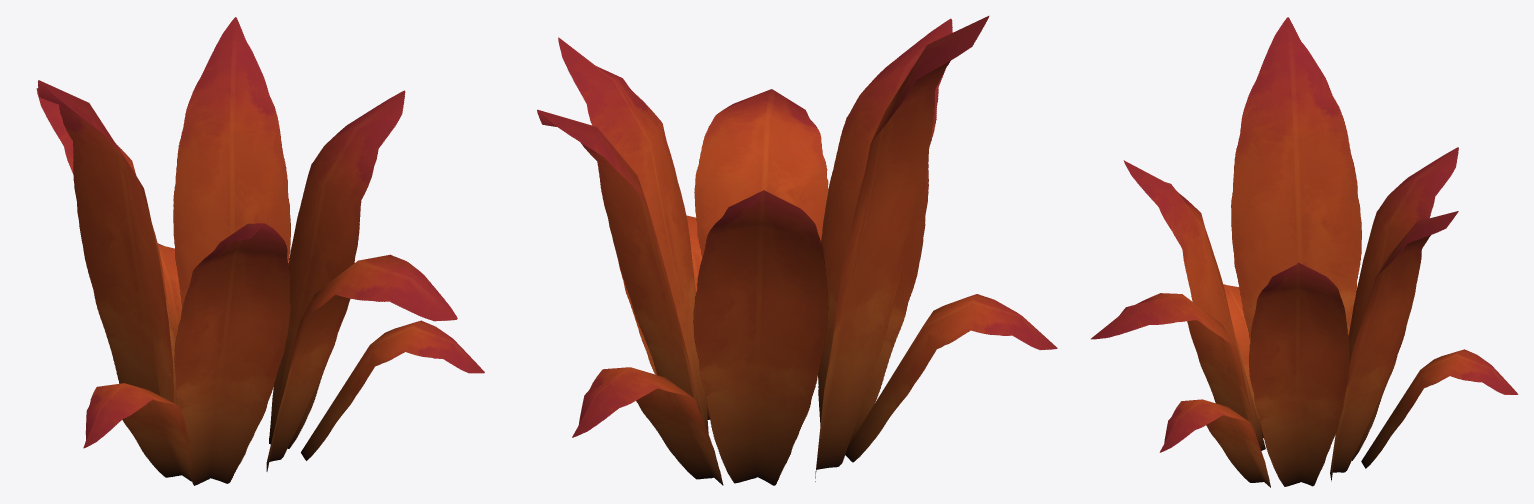
Rendered from Plant_6.gltf.
3 renders of one model, left to right at view 1: azimuth 30°, elevation 25°; view 2: azimuth 150°, elevation 25°; view 3: azimuth 270°, elevation 25°, orthographic. The views are drawn at different scales.
Parts seen in each view (by area): view 1: Plant_6; view 2: Plant_6; view 3: Plant_6.
Part boxes in pixels (x1=…): Plant_6: x1=36, y1=17, x2=484, y2=485; Plant_6: x1=537, y1=16, x2=1057, y2=485; Plant_6: x1=1091, y1=17, x2=1518, y2=487.
Size of the model in its own units: 0.8983 by 0.9315 by 0.9836.
1 material, 1 textured.
